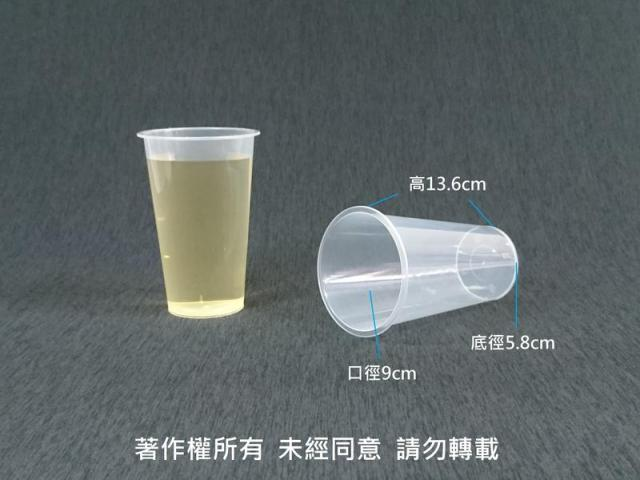cup: (318, 207, 518, 337)
